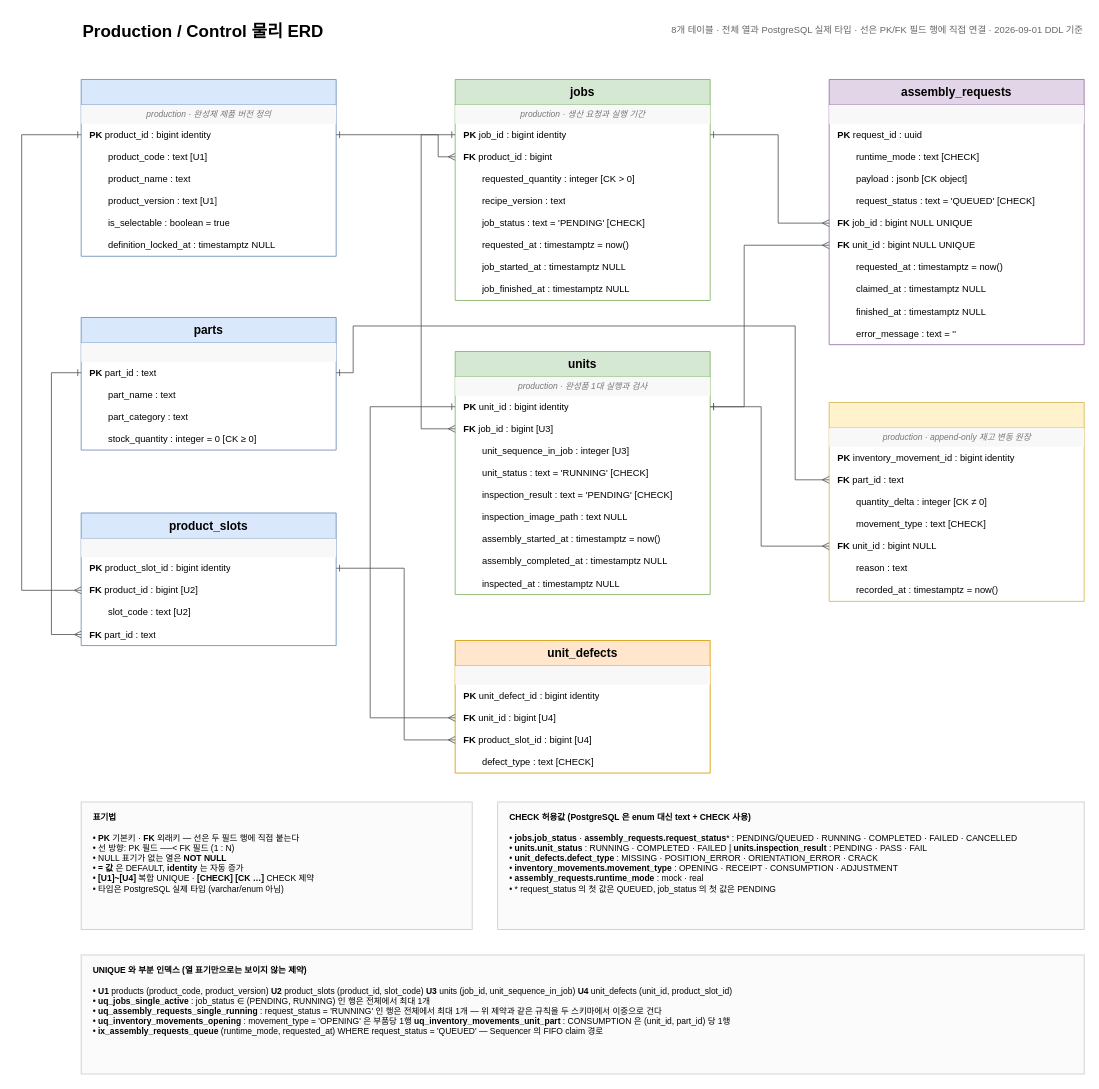
This 1099x1089 diagram has some shape labels left out. Here are the shapes that lost their labels. From the top down, the box of each, then its label:
(829, 105, 1084, 123): control · 영속 조립 command queue
(80, 79, 336, 256): products
(81, 343, 336, 361): production · 부품 기준정보와 현재고
(828, 402, 1084, 601): inventory_movements
(81, 538, 336, 557): production · 완성체 슬롯 구조 정의
(455, 666, 710, 684): production · 불량 판정 슬롯 기록
